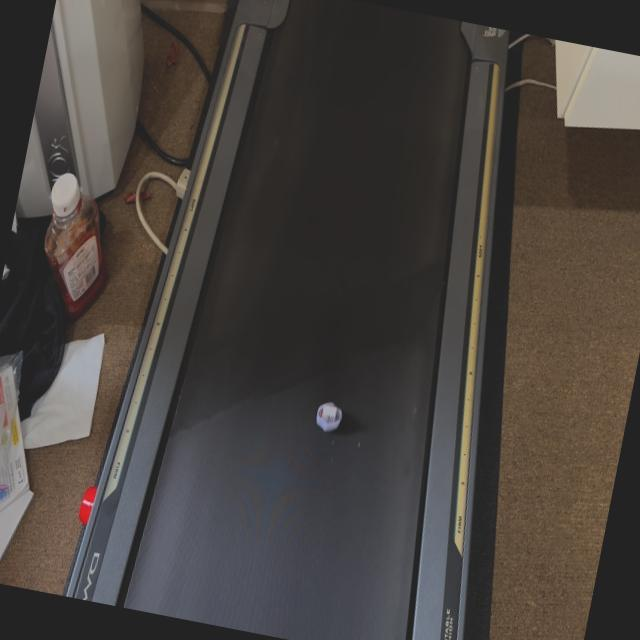Recycle: (312, 396, 346, 436)
